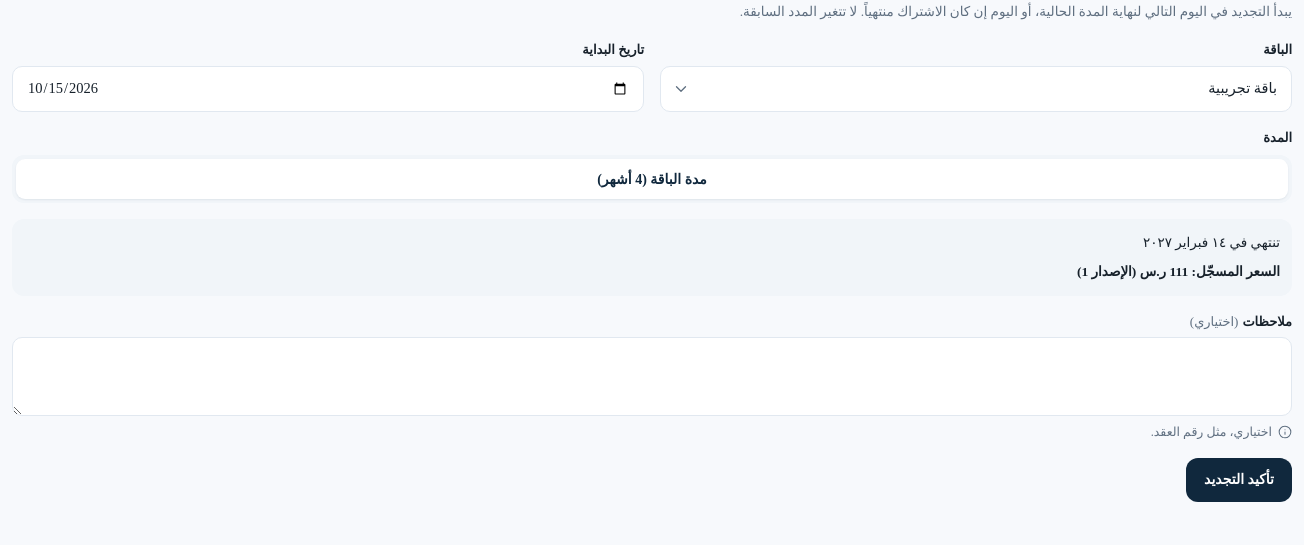
Test case: RecordPeriodForm (DV-S05: durations and prices come from the plan) › shows the API field error in the active language
This screenshot has width=1304, height=545.
Click the button "تأكيد التجديد": (1239, 480) x1=1186 y1=458 x2=1292 y2=502
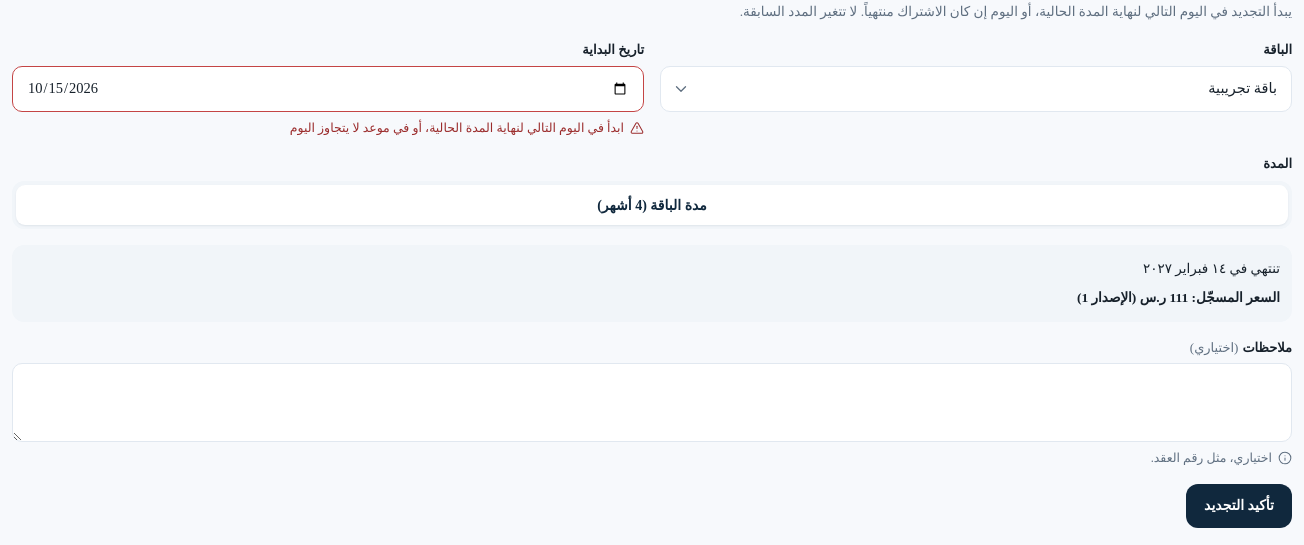
Result: the text "ابدأ في اليوم التالي لنهاية المدة الحالية، أو في موعد لا يتجاوز اليوم" is shown at x1=290 y1=121 x2=644 y2=135
